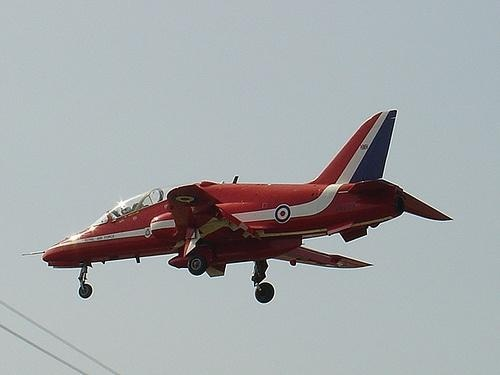aeroplane: (22, 110, 454, 305)
